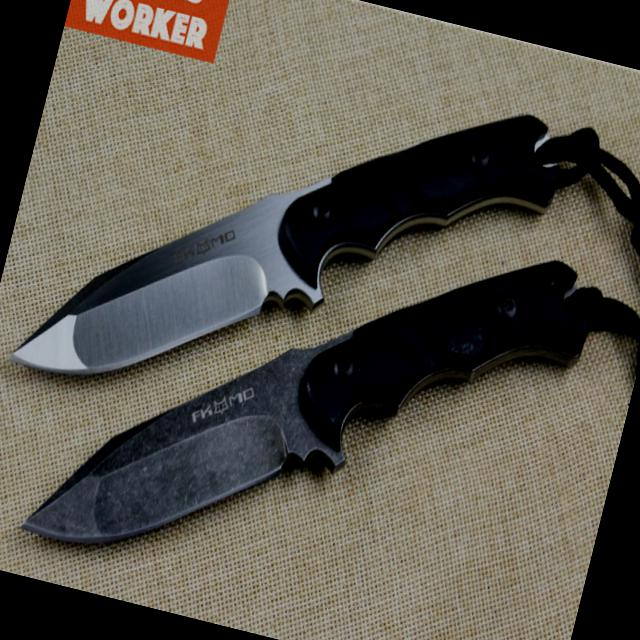knife: (0, 140, 324, 441), (14, 324, 322, 596)
